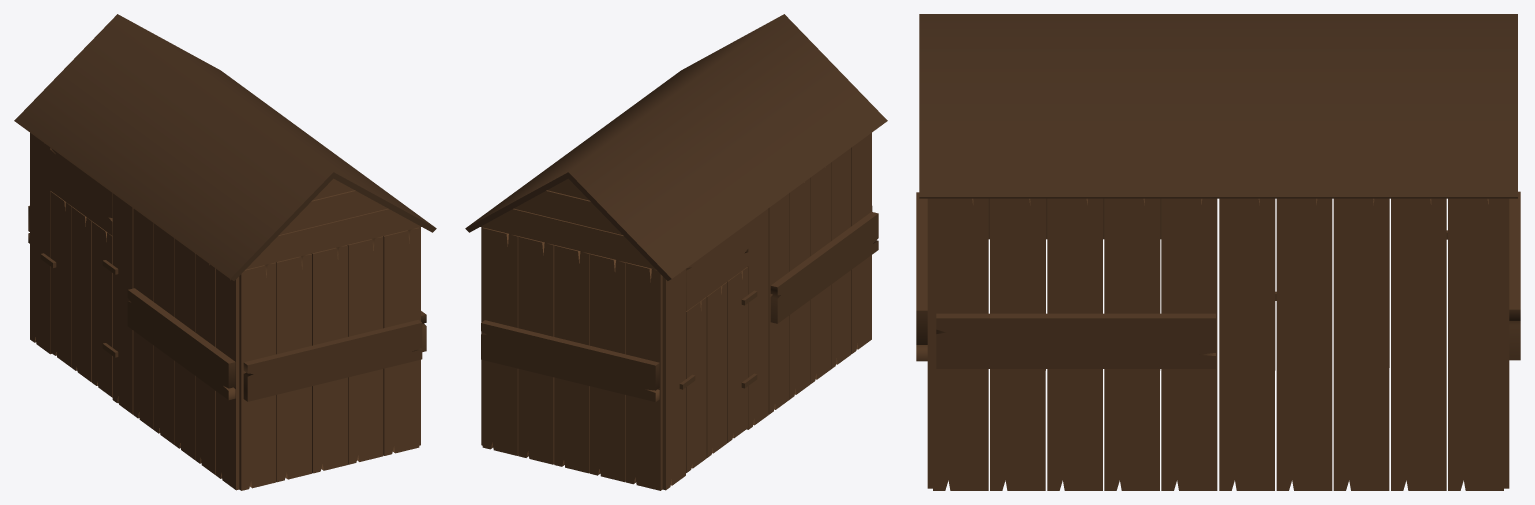
The model's file is Jiayun_Shed.fbx.
The picture shows the model from 3 angles, left to right: view 1: azimuth 30°, elevation 25°; view 2: azimuth 150°, elevation 25°; view 3: azimuth 270°, elevation 25°; orthographic projection. The views are drawn at different scales.
Parts seen in each view (by area): view 1: pCube73, pCube58 (×2), pCube53 (×2), pCube56 (×2), pCube55 (×2), pCube57 (×2), pCube54 (×2), pCube67, pCube59, pCube79, pCube61, pCube62 (+3 smaller); view 2: pCube73, pCube58 (×2), pCube53 (×2), pCube56 (×2), pCube57 (×2), pCube54 (×2), pCube55 (×2), pCube67, pCube59, pCube74, pCube62, pCube61 (+3 smaller); view 3: pCube73, pCube58 (×3), pCube63, pCube64, pCube65, pCube66, pCube68, pCube53 (×2), pCube56 (×2), pCube54, pCube55, pCube57.
Boxes of the visible parts, box(x1,y1,x2,y2) form: pCube73: box(14, 14, 436, 280); pCube58 (×2): box(127, 288, 422, 401); pCube53 (×2): box(216, 227, 419, 490); pCube56 (×2): box(133, 208, 276, 490); pCube55 (×2): box(174, 239, 347, 473); pCube57 (×2): box(154, 223, 311, 482); pCube54 (×2): box(195, 236, 383, 475); pCube67: box(30, 133, 51, 354); pCube59: box(112, 193, 133, 414); pCube79: box(246, 208, 421, 269); pCube61: box(50, 191, 71, 366); pCube62: box(71, 206, 92, 382); pCube73: box(465, 14, 887, 280); pCube58 (×2): box(481, 212, 878, 402); pCube53 (×2): box(625, 133, 871, 490); pCube56 (×2): box(482, 193, 789, 455); pCube57 (×2): box(518, 178, 810, 464); pCube54 (×2): box(590, 148, 851, 482); pCube55 (×2): box(554, 163, 830, 473); pCube67: box(662, 269, 685, 490); pCube59: box(746, 208, 768, 429); pCube74: box(480, 208, 655, 269); pCube62: box(706, 282, 727, 457); pCube61: box(686, 297, 706, 472); pCube73: box(919, 14, 1517, 198); pCube58 (×3): box(916, 191, 1520, 368); pCube63: box(1333, 198, 1389, 490); pCube64: box(1276, 198, 1332, 490); pCube65: box(1219, 198, 1274, 490); pCube66: box(1391, 198, 1446, 490); pCube68: box(1448, 198, 1503, 490); pCube53 (×2): box(927, 198, 1217, 490); pCube56 (×2): box(933, 198, 1509, 490); pCube54: box(1104, 198, 1159, 490); pCube55: box(1047, 198, 1102, 490); pCube57: box(990, 198, 1045, 490).
Size of the model in its own units: 1.66 by 2.29 by 3.03.
